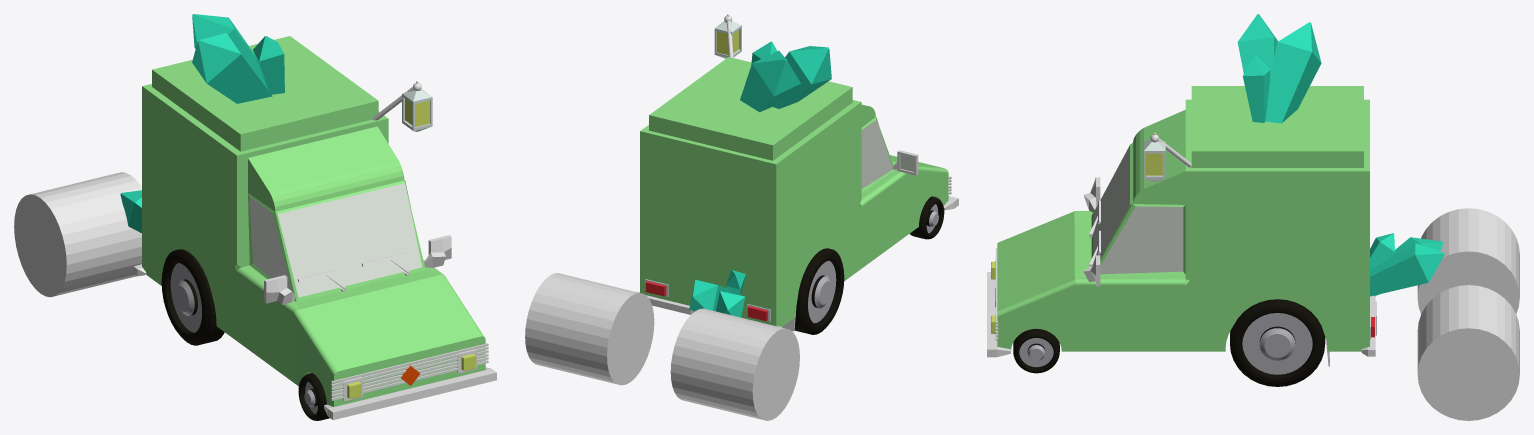
File: CarRemake54.fbx
3 renders of one model, left to right at view 1: azimuth 30°, elevation 25°; view 2: azimuth 150°, elevation 25°; view 3: azimuth 270°, elevation 25°, orthographic. The views are drawn at different scales.
Parts seen in each view (by area): view 1: Cube, Cylinder.003, Back Left Wheel.001, Cube.025, Cube.024, Cube.001, Cube.023, Cube.012, Front Left Wheel.001, Cube.007, Cube.019, Cube.013; view 2: Cube, Cylinder.003, Back Left Wheel.001, Cube.024, Cube.025, Front Left Wheel.001, Cube.020, Cube.012, Cube.010, Cube.019, Cube.001, Cube.008; view 3: Cube, Cylinder.003, Back Left Wheel, Cube.024, Cube.020, Front Left Wheel, Cube.025, Cube.023, Cube.012, Cube.001, Cube.021.
Part boxes in pixels (x1=…): Cube: x1=142, y1=36, x2=496, y2=420; Cylinder.003: x1=14, y1=172, x2=141, y2=297; Back Left Wheel.001: x1=161, y1=249, x2=224, y2=345; Cube.025: x1=192, y1=33, x2=272, y2=103; Cube.024: x1=192, y1=14, x2=266, y2=86; Cube.001: x1=264, y1=235, x2=451, y2=304; Cube.023: x1=253, y1=36, x2=284, y2=94; Cube.012: x1=402, y1=89, x2=432, y2=131; Front Left Wheel.001: x1=298, y1=373, x2=329, y2=420; Cube.007: x1=343, y1=349, x2=477, y2=401; Cube.019: x1=120, y1=190, x2=141, y2=233; Cube.013: x1=331, y1=343, x2=488, y2=383; Cube: x1=640, y1=57, x2=958, y2=326; Cylinder.003: x1=525, y1=273, x2=799, y2=420; Back Left Wheel.001: x1=794, y1=248, x2=844, y2=334; Cube.024: x1=740, y1=50, x2=800, y2=112; Cube.025: x1=773, y1=46, x2=831, y2=108; Front Left Wheel.001: x1=909, y1=196, x2=944, y2=239; Cube.020: x1=689, y1=279, x2=731, y2=311; Cube.012: x1=714, y1=21, x2=741, y2=58; Cube.010: x1=645, y1=279, x2=770, y2=321; Cube.019: x1=716, y1=291, x2=745, y2=317; Cube.001: x1=892, y1=150, x2=918, y2=175; Cube.008: x1=636, y1=291, x2=781, y2=327; Cube: x1=987, y1=86, x2=1369, y2=357; Cylinder.003: x1=1417, y1=208, x2=1519, y2=420; Back Left Wheel: x1=1230, y1=299, x2=1325, y2=386; Cube.024: x1=1265, y1=22, x2=1321, y2=123; Cube.020: x1=1370, y1=243, x2=1444, y2=296; Front Left Wheel: x1=1013, y1=328, x2=1059, y2=373; Cube.025: x1=1237, y1=14, x2=1278, y2=75; Cube.023: x1=1242, y1=54, x2=1270, y2=122; Cube.012: x1=1144, y1=140, x2=1165, y2=181; Cube.001: x1=1083, y1=177, x2=1100, y2=286; Cube.021: x1=1370, y1=233, x2=1394, y2=270.
Bounding box in the file's own units: 729 × 885 × 1367.
